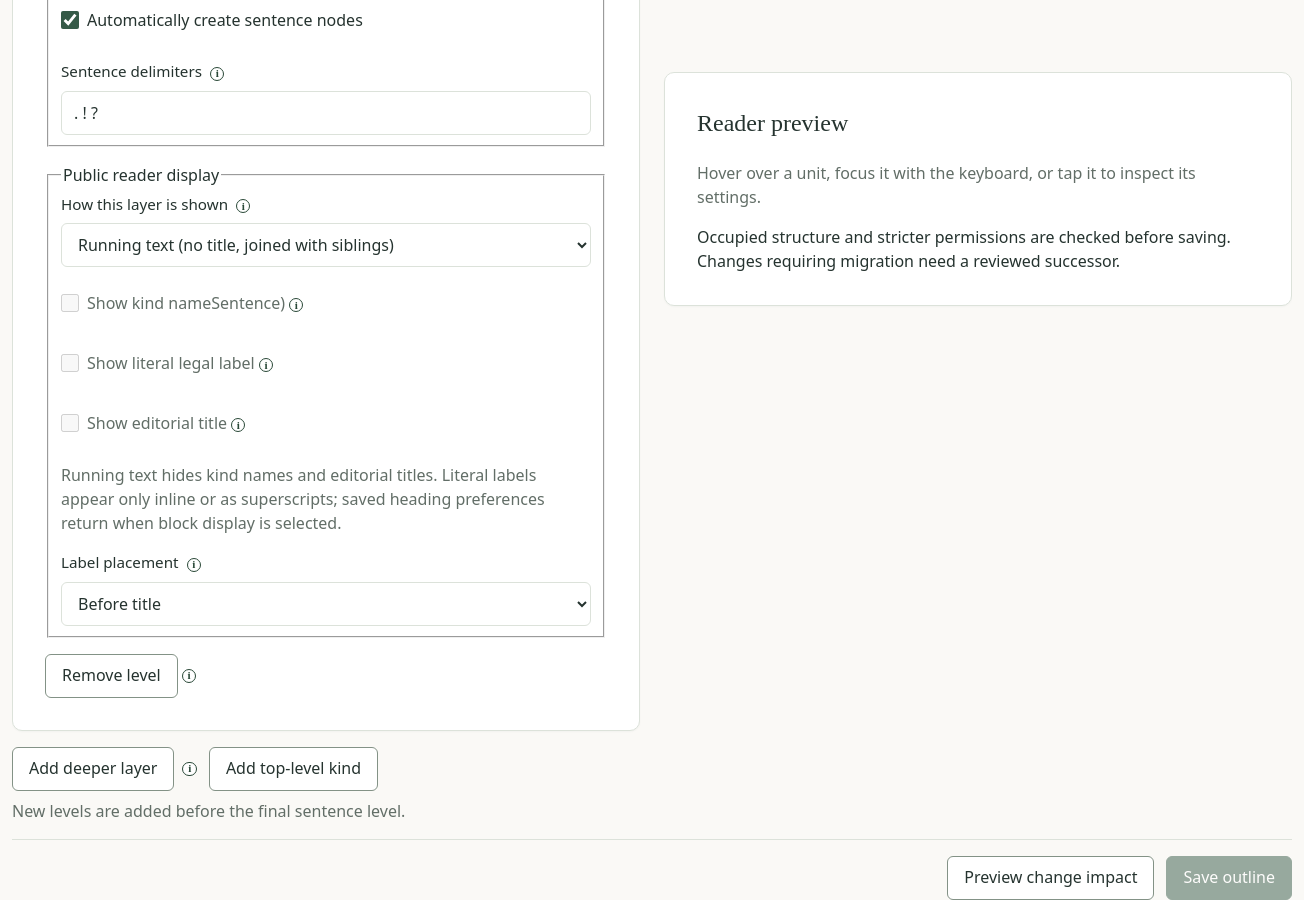
it: outline settings behavioral contracts › impact checks gate settings writes › requires a successful impact check and invalidates it after editing
(page scrolled)
Expected: the button "Save outline" is disabled, 1166,856 -> 1292,899
Click the button "Preview change impact".
click(1051, 878)  # box 947,856 -> 1154,899
(page scrolled)
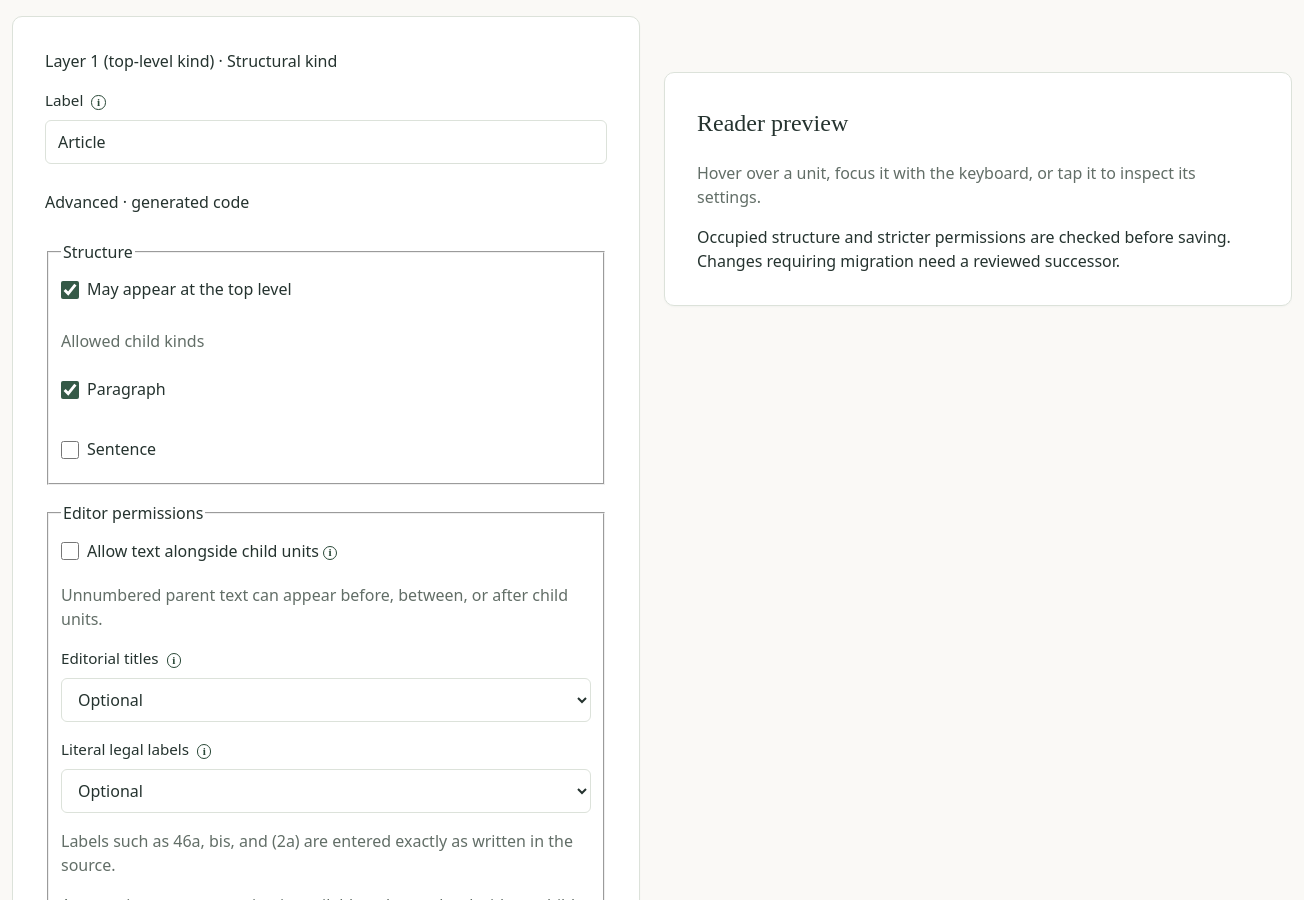
Replace the text in the field named "label-0" with "New label" at (326, 142), box 45,120 -> 607,164
(page scrolled)
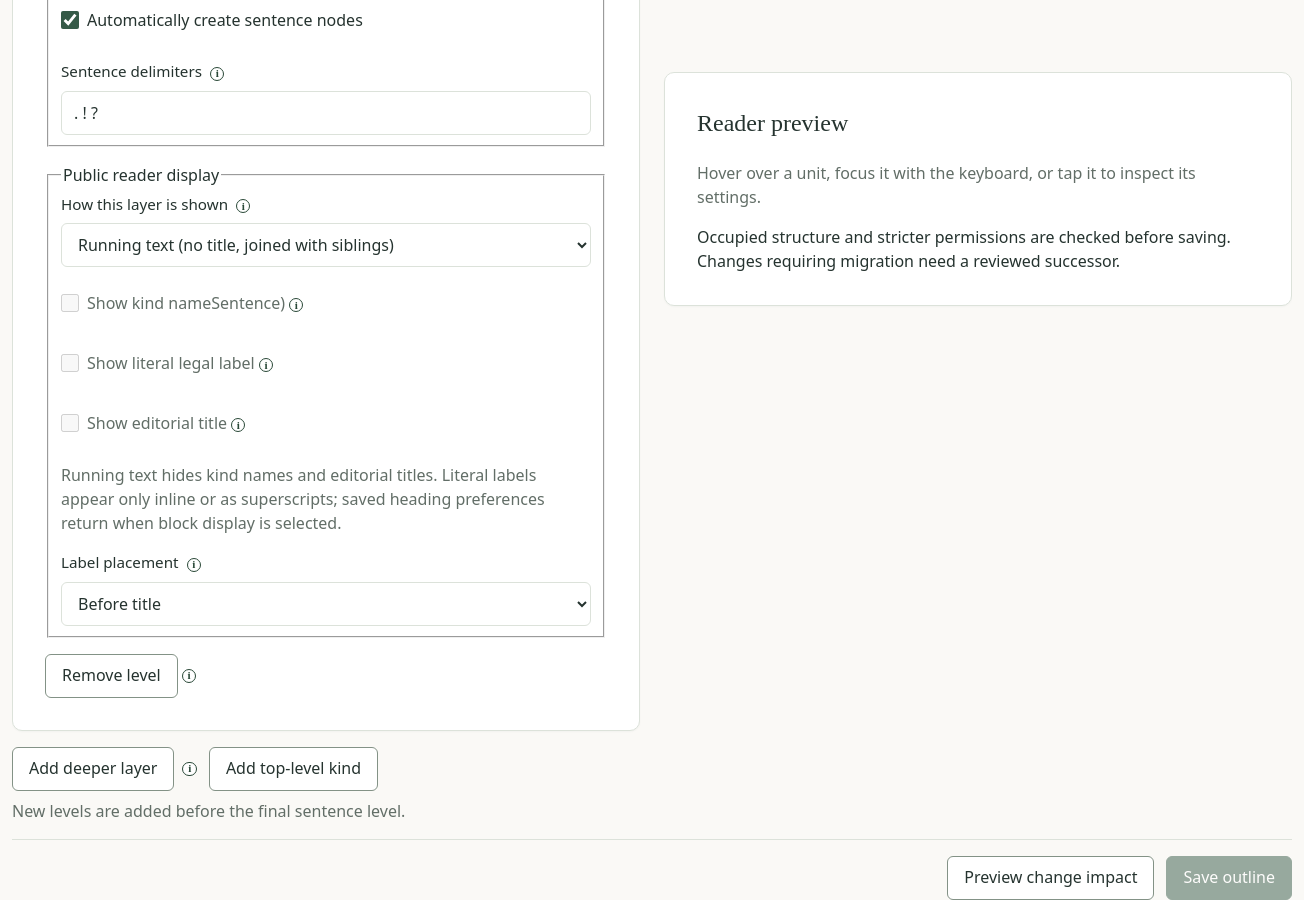
Expected: the button "Save outline" is disabled, 1166,856 -> 1292,899
